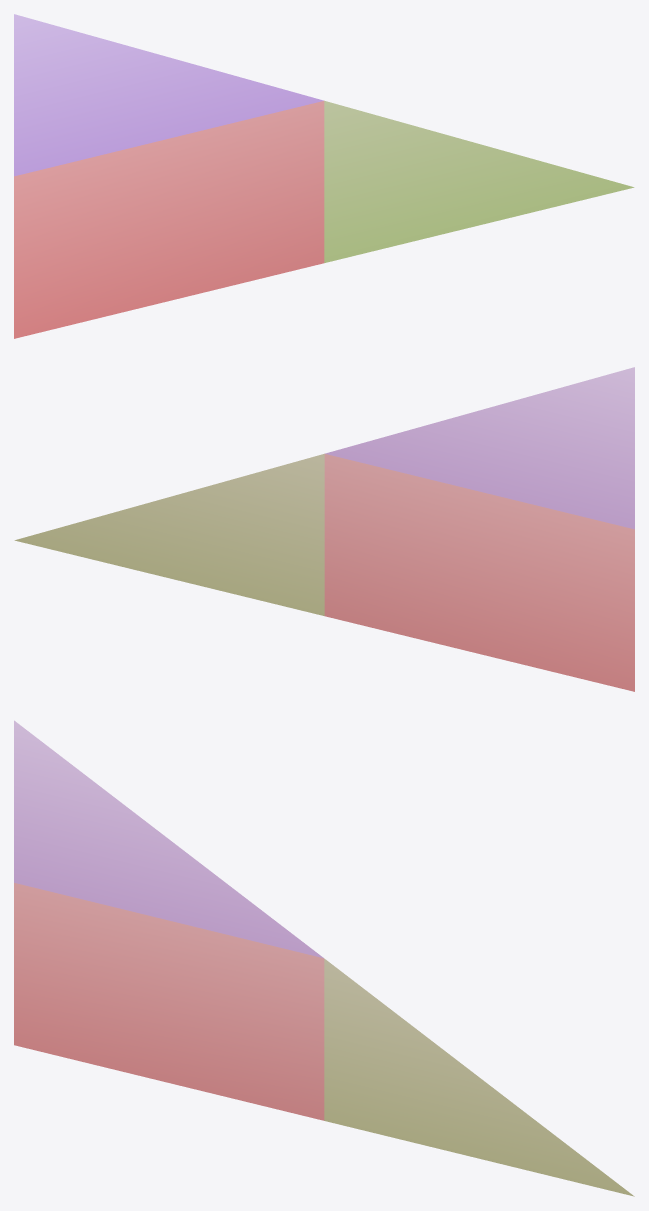
Rendered from appearance.glb.
The picture shows the model from 3 angles, top to bottom: view 1: azimuth 30°, elevation 25°; view 2: azimuth 150°, elevation 25°; view 3: azimuth 330°, elevation 25°; orthographic projection.
Size of the model in its own units: 2 by 1 by 0.
1 material, 1 textured.
